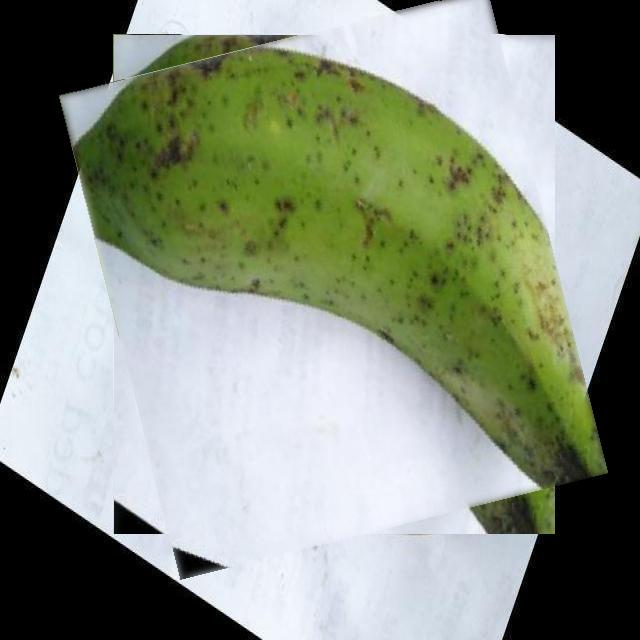Verde: (86, 11, 582, 557)
